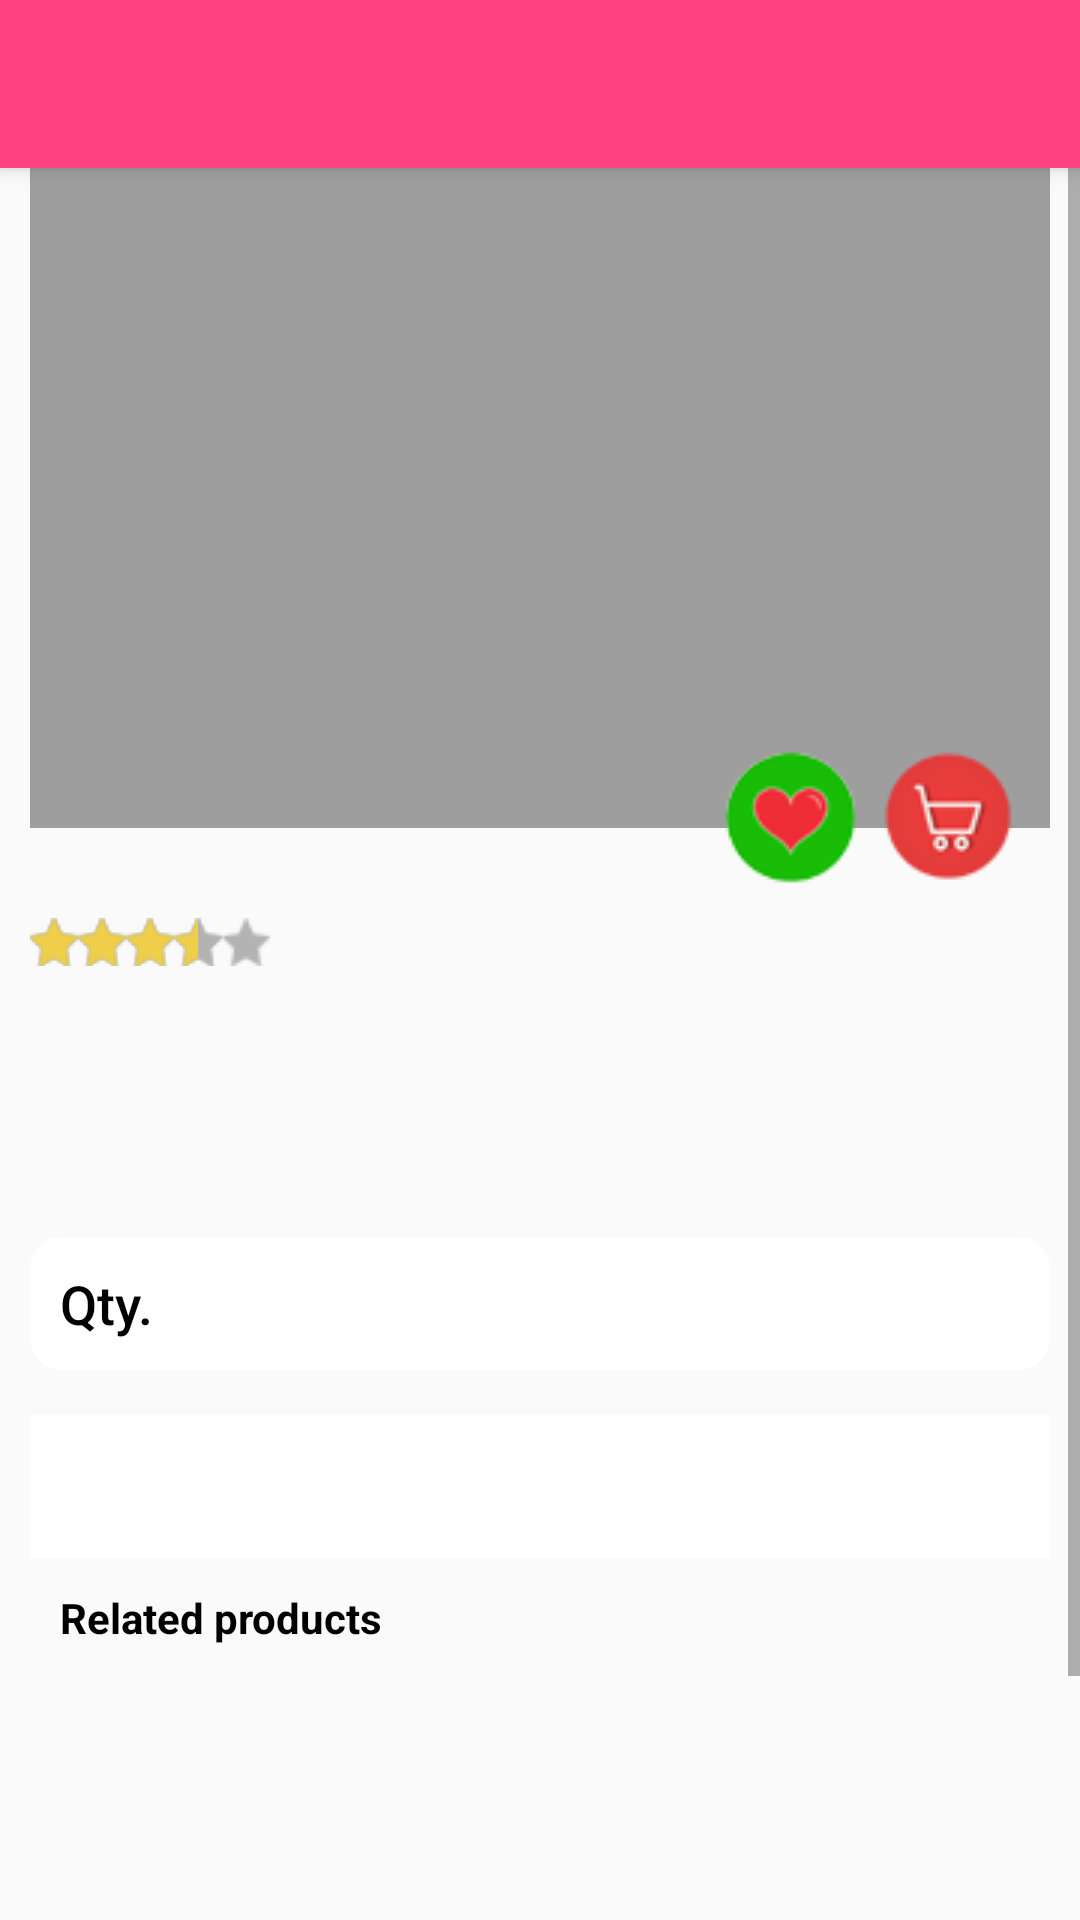

Screen size 1080×1920. Icon name, then its center in pixels as [x,y]:
cart: [948,816]
wishlist: [789,816]
